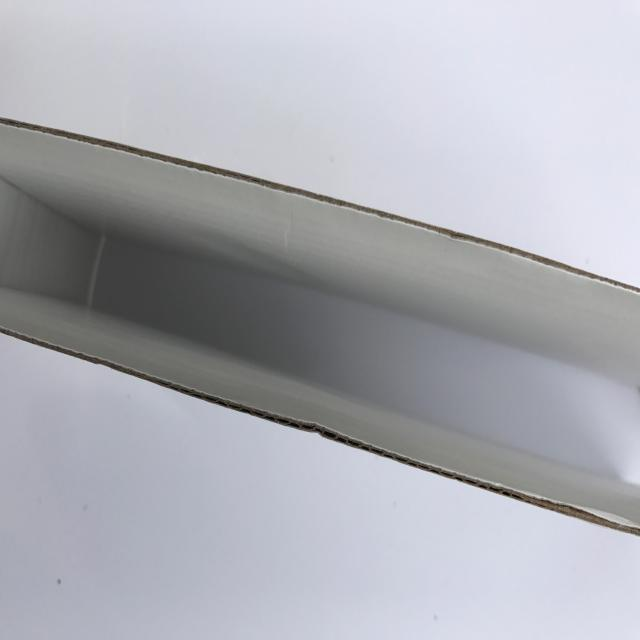cardboard: (0, 115, 639, 536)
